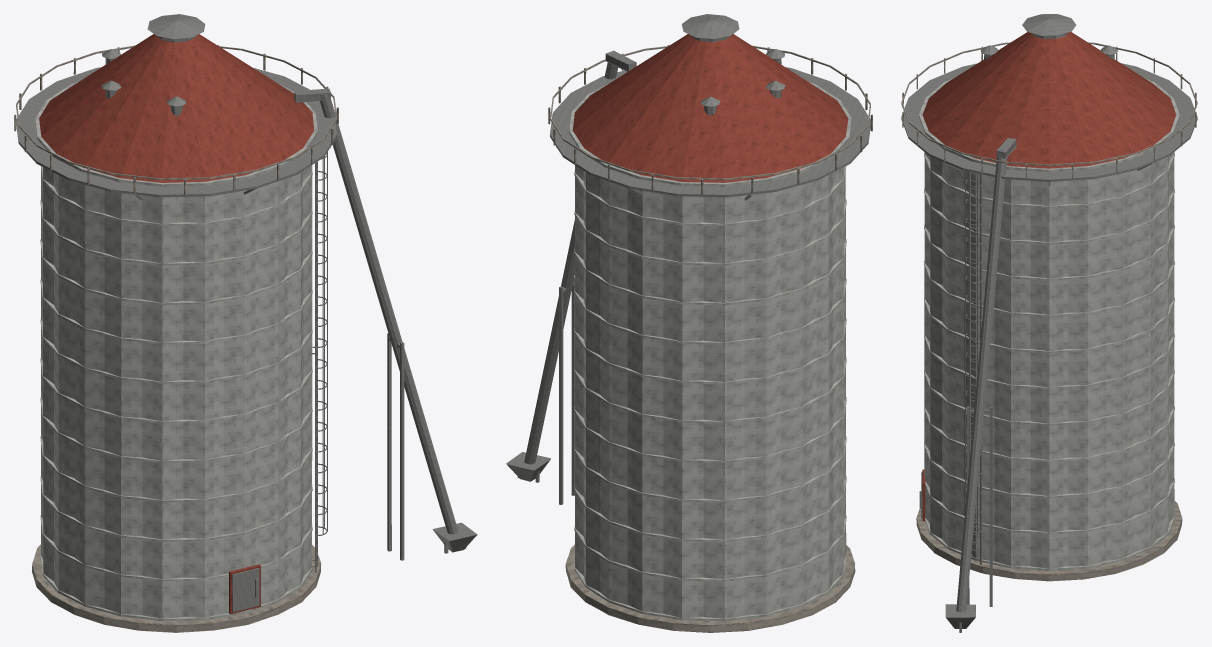
The model's file is silo_mega.glb.
3 views of the same model, side by side, from view 1: azimuth 30°, elevation 25°; view 2: azimuth 150°, elevation 25°; view 3: azimuth 270°, elevation 25° (orthographic). The views are drawn at different scales.
Parts seen in each view (by area): view 1: SiloMega; view 2: SiloMega; view 3: SiloMega.
Part boxes in pixels (x1,y1,x2,y2): SiloMega: (14, 14, 477, 632); SiloMega: (506, 14, 872, 632); SiloMega: (901, 14, 1197, 632).
Bounding box in the file's own units: 11.86 × 16.24 × 8.63.
4 materials, 4 textured.
